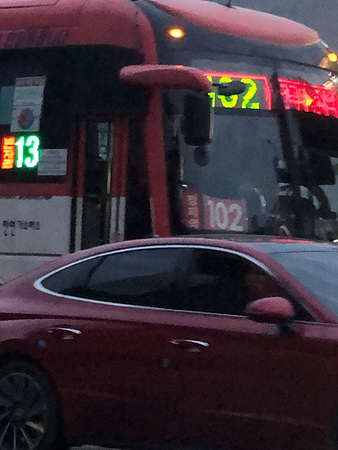bnum: (202, 197, 247, 232)
